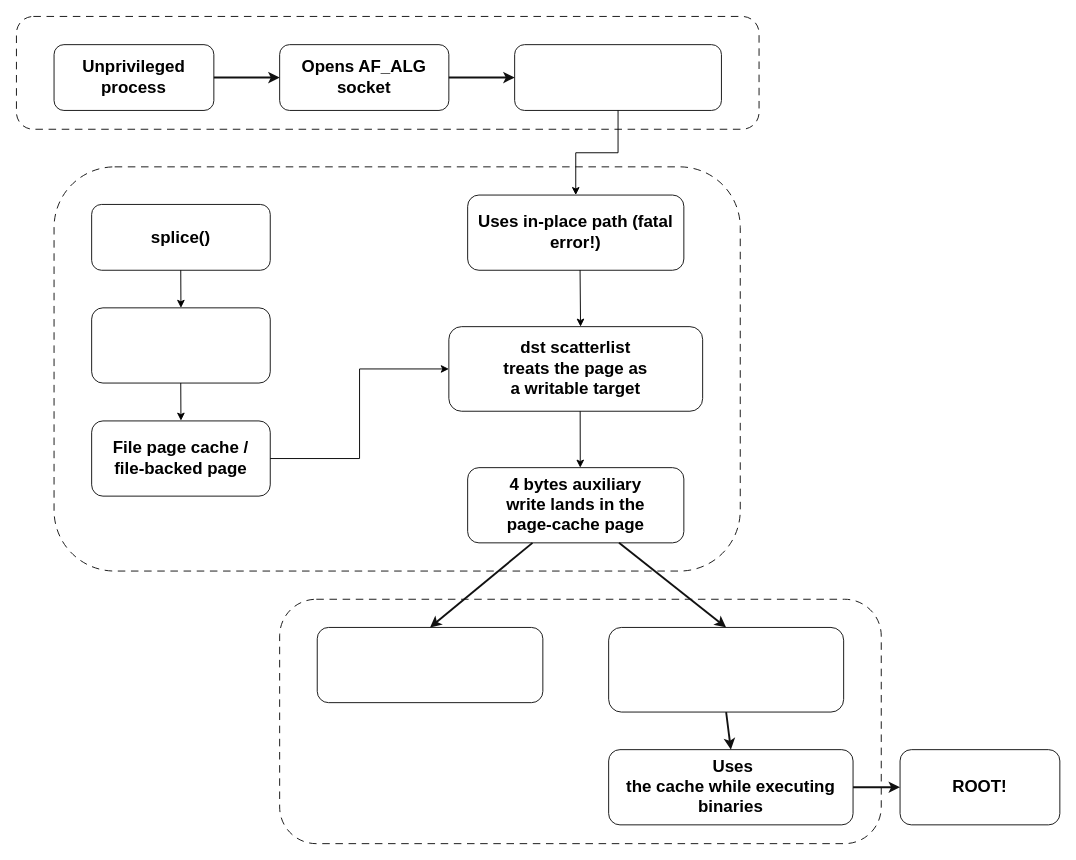
The diagram is 1076 pixels wide and 860 high, and some of its shapes have lost their labels. The shapes that lost their labels are listed below. From the top down, each one's box as (x1, y1, x2, y2) in pixels, then its label:
(514, 44, 721, 110): Submits AEAD request to algif_aead
(91, 307, 270, 383): Read-only file pages enter processing
(316, 627, 543, 703): On-disk file remains unchanged
(608, 627, 844, 712): Corrupted cached representation in memory
